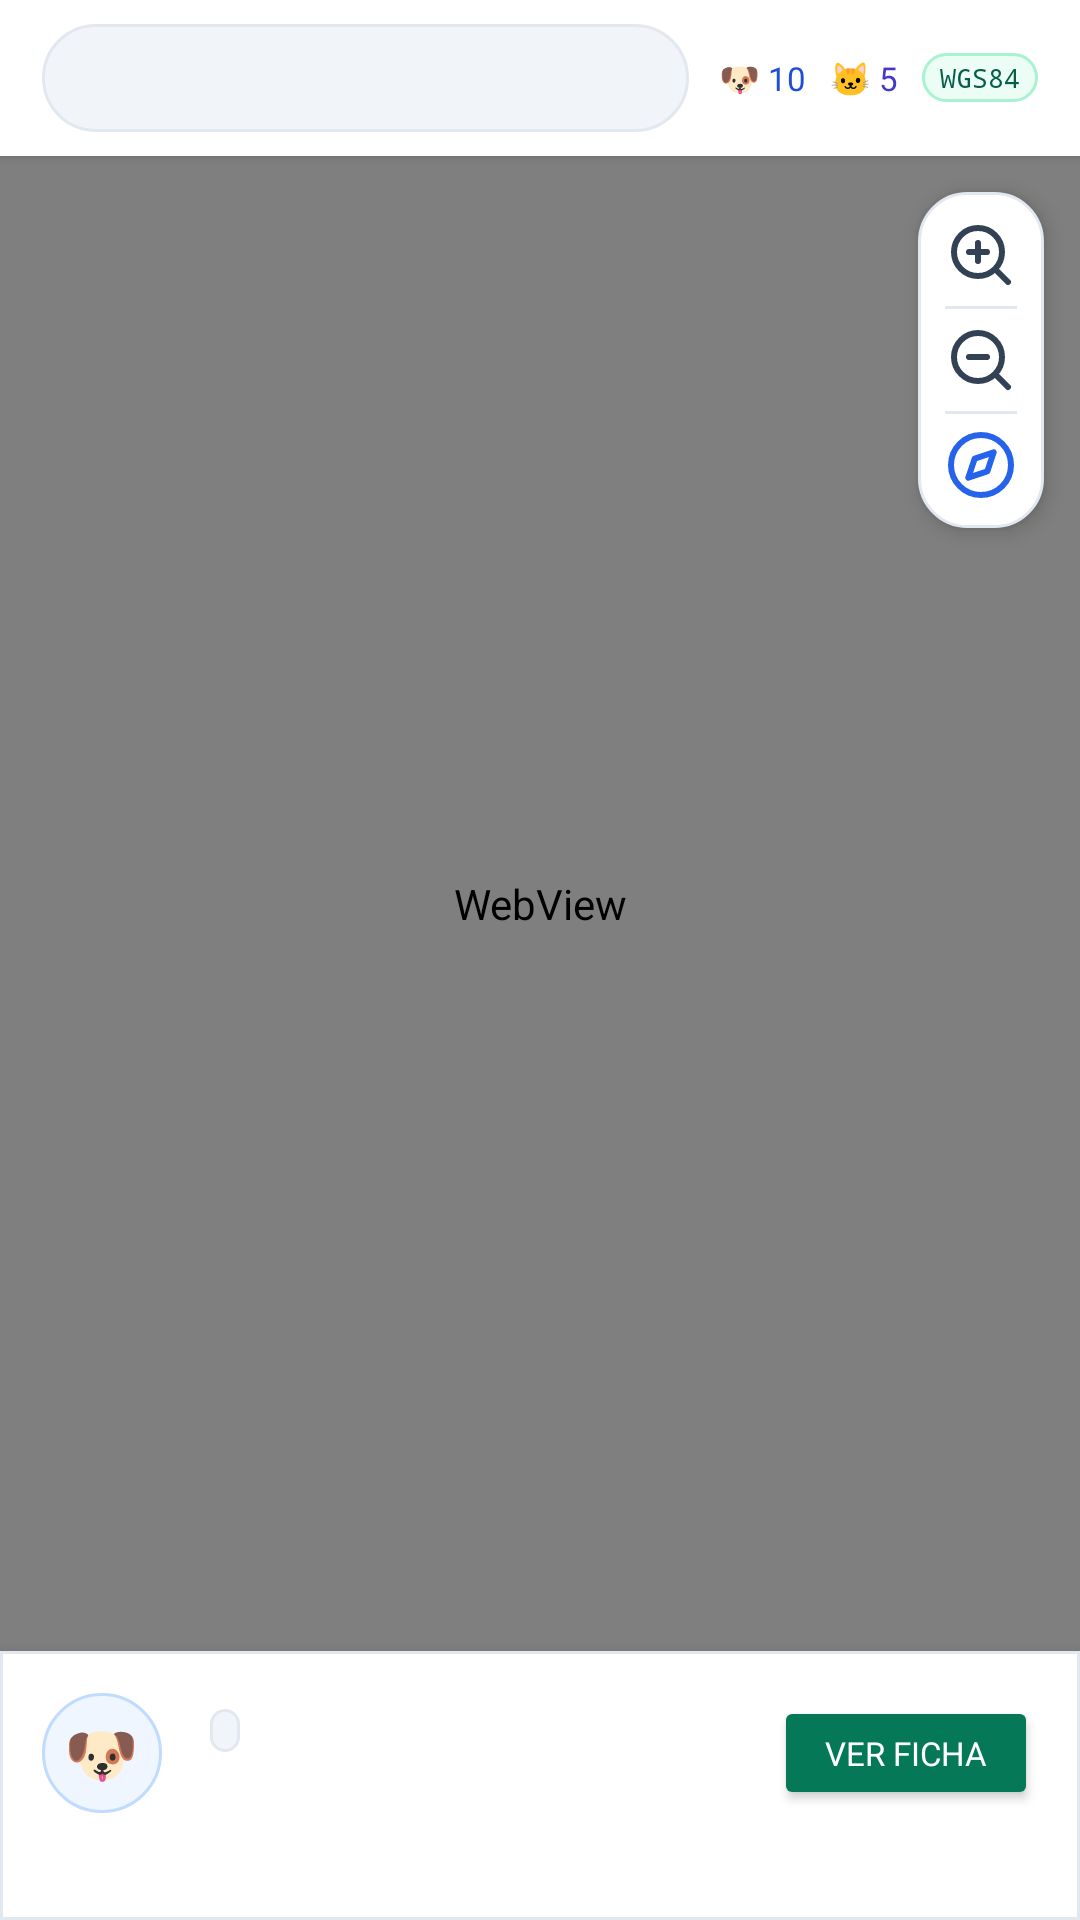

Named icons in this screenshot (1080 x 1920) and their bounding boxes, (x1, y1, x2, y2):
Acercar mapa: (951, 225, 1011, 285)
Alejar mapa: (951, 330, 1011, 390)
